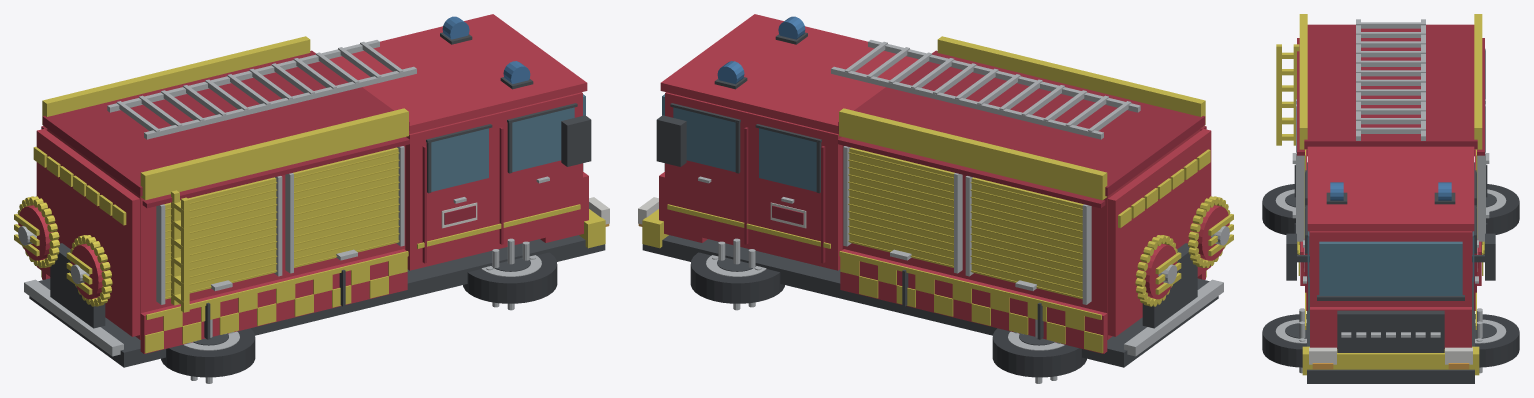
File: ccrm-le-chesne.glb
3 renders of one model, left to right at view 1: azimuth 30°, elevation 25°; view 2: azimuth 150°, elevation 25°; view 3: azimuth 270°, elevation 25°, orthographic. The views are drawn at different scales.
Parts seen in each view (by area): view 1: roof_3, cab_roof_5, cab_4, rear_panel_226, roller_shutter_142, roller_shutter_125, upper_banner_123, chassis_1, lower_compartments_159, upper_banner_34, body_2, door_window_115 (+23 smaller); view 2: roof_3, cab_roof_5, cab_4, roller_shutter_36, rear_panel_226, roller_shutter_53, upper_banner_34, chassis_1, lower_compartments_70, upper_banner_123, body_2, door_window_26 (+21 smaller); view 3: roof_3, cab_roof_5, windshield_7, grille_9, cab_4, chassis_1, bonnet_6, bumper_17, tyre_98, tyre_187, upper_banner_34, upper_banner_123 (+33 smaller).
Part boxes in pixels (x1,y1,x2,y2): roof_3: [42, 50, 409, 196]; cab_roof_5: [329, 14, 587, 134]; cab_4: [405, 92, 582, 270]; rear_panel_226: [36, 129, 139, 336]; roller_shutter_142: [293, 147, 398, 267]; roller_shutter_125: [164, 177, 276, 299]; upper_banner_123: [140, 108, 408, 200]; chassis_1: [29, 235, 605, 367]; lower_compartments_159: [140, 249, 407, 353]; upper_banner_34: [42, 36, 310, 126]; body_2: [47, 129, 405, 339]; door_window_115: [431, 128, 488, 191]; roof_3: [838, 50, 1205, 196]; cab_roof_5: [660, 14, 918, 134]; cab_4: [665, 92, 842, 270]; roller_shutter_36: [971, 177, 1083, 299]; rear_panel_226: [1108, 129, 1211, 336]; roller_shutter_53: [849, 147, 954, 267]; upper_banner_34: [839, 108, 1107, 200]; chassis_1: [642, 235, 1218, 367]; lower_compartments_70: [840, 249, 1107, 353]; upper_banner_123: [937, 36, 1205, 126]; body_2: [842, 129, 1200, 339]; door_window_26: [759, 128, 816, 191]; roof_3: [1304, 24, 1477, 149]; cab_roof_5: [1307, 146, 1474, 231]; windshield_7: [1319, 241, 1462, 295]; grille_9: [1337, 310, 1444, 352]; cab_4: [1310, 231, 1471, 306]; chassis_1: [1307, 162, 1474, 383]; bonnet_6: [1310, 307, 1471, 348]; bumper_17: [1302, 346, 1479, 375]; tyre_98: [1475, 314, 1519, 367]; tyre_187: [1262, 314, 1306, 367]; upper_banner_34: [1474, 14, 1482, 149]; upper_banner_123: [1299, 14, 1307, 149].
Size of the model in its own units: 7.93 by 3.45 by 3.86.
